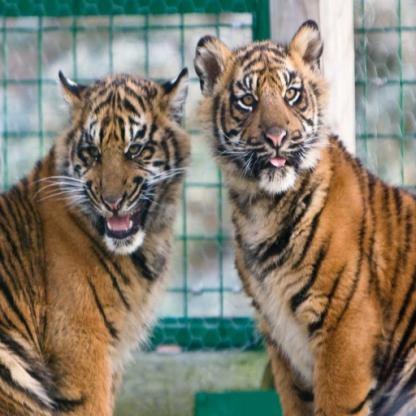Tiger: (190, 26, 415, 415), (0, 54, 192, 416)
